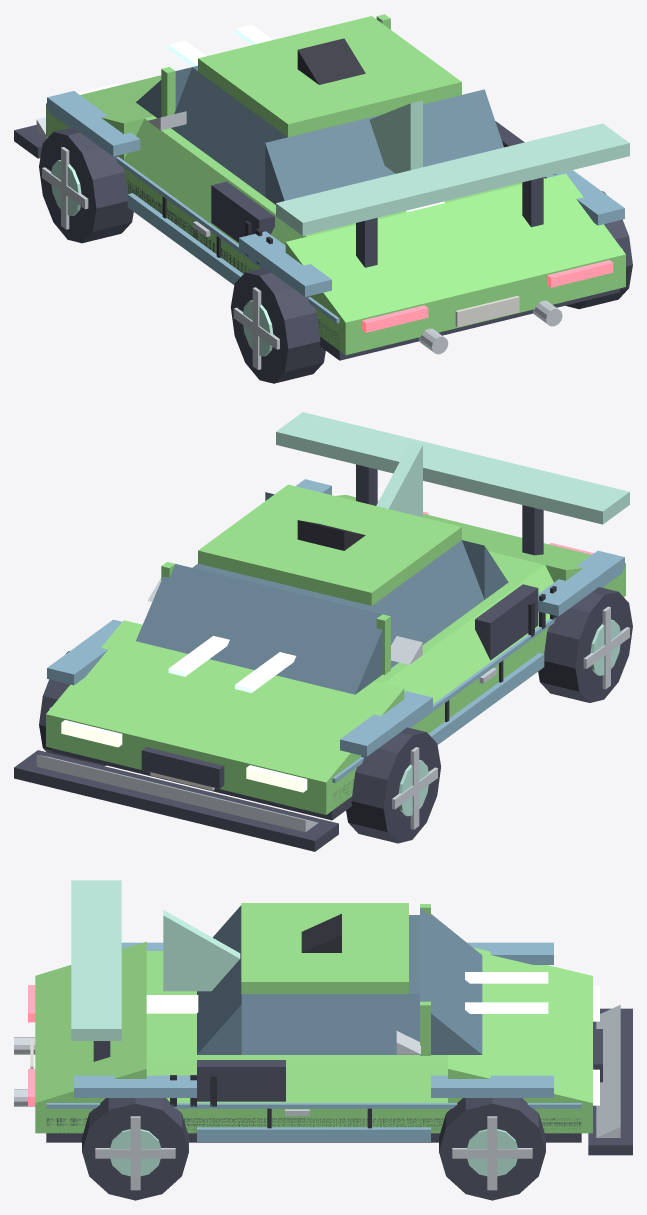
Rendered from racing_radiant.glb.
3 views of the same model, one above another, from view 1: azimuth 30°, elevation 25°; view 2: azimuth 150°, elevation 25°; view 3: azimuth 270°, elevation 25° (orthographic). The views are drawn at different scales.
Visible parts, largest first — view 1: Tail.087, Roof.287, RearWing.050, RearWindow.187, Body.287, CabinSideL.084, Wheel_RL.247, Wheel_FL.247, ShoulderL.084, DorsalFin.025, Arch-1False.163, Arch-1True.163 (+25 smaller); view 2: Nose.084, Windshield.187, Roof.287, RearWing.050, Body.287, Splitter.054, Wheel_FL.247, Wheel_RL.247, CabinSideL.084, ShoulderL.084, Bumper.283, Tail.087 (+25 smaller); view 3: Roof.287, Nose.084, CabinSideR.084, Tail.087, RearWing.050, ShoulderR.084, Body.287, Windshield.187, Wheel_RR.247, Wheel_FR.247, BodyUpper.084, DorsalFin.025 (+23 smaller).
Boxes of the visible parts, box(x1,y1,x2,y2) form: Tail.087: box(285, 173, 625, 322); Roof.287: box(198, 16, 461, 137); RearWing.050: box(276, 123, 629, 235); RearWindow.187: box(265, 89, 503, 204); Body.287: box(46, 103, 625, 355); CabinSideL.084: box(171, 67, 287, 196); Wheel_RL.247: box(230, 267, 325, 383); Wheel_FL.247: box(39, 127, 133, 243); ShoulderL.084: box(124, 118, 305, 245); DorsalFin.025: box(369, 100, 422, 173); Arch-1False.163: box(47, 91, 140, 156); Arch-1True.163: box(239, 231, 331, 296); Nose.084: box(46, 620, 404, 782); Windshield.187: box(136, 564, 382, 694); Roof.287: box(198, 484, 461, 605); RearWing.050: box(276, 412, 629, 524); Body.287: box(46, 563, 625, 814); Splitter.054: box(14, 750, 338, 851); Wheel_FL.247: box(346, 727, 440, 843); Wheel_RL.247: box(538, 587, 632, 702); CabinSideL.084: box(366, 540, 484, 668); ShoulderL.084: box(383, 565, 553, 703); Bumper.283: box(36, 755, 318, 832); Tail.087: box(336, 494, 625, 582); Roof.287: box(241, 903, 408, 993); Nose.084: box(448, 947, 592, 1102); CabinSideR.084: box(241, 994, 419, 1054); Tail.087: box(35, 941, 146, 1102); RearWing.050: box(71, 880, 121, 1040); ShoulderR.084: box(146, 1059, 447, 1102); Body.287: box(35, 1103, 592, 1133); Windshield.187: box(420, 908, 482, 1054); Wheel_RR.247: box(82, 1098, 188, 1200); Wheel_FR.247: box(439, 1098, 545, 1200); BodyUpper.084: box(146, 951, 447, 1059); DorsalFin.025: box(163, 910, 240, 991).
Bounding box in the file's own units: 3.4 × 2.08 × 5.55.
